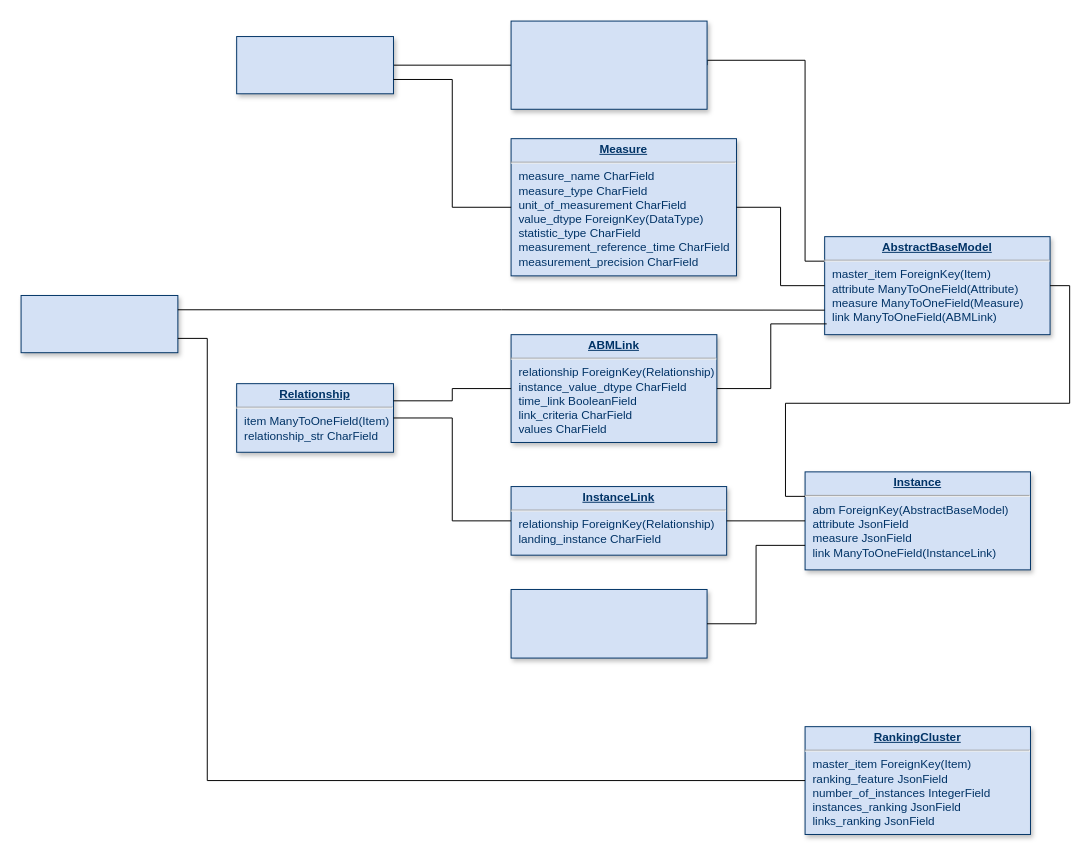
Image size: 1088x858. Some labels were removed from this diagram. The centre of each missing label's shape, as x and y in pixels:
Attribute attribute_name CharField value_dtype ForeignKey(DataType): the point at 609,66
DataType Name CharField: the point at 315,66
IncomingInteractionLink relationship CharField origin_instance CharField: the point at 609,625
Item Name CharField: the point at 100,325
